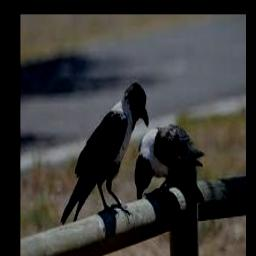Crow: (61, 83, 149, 229), (135, 124, 204, 200)
